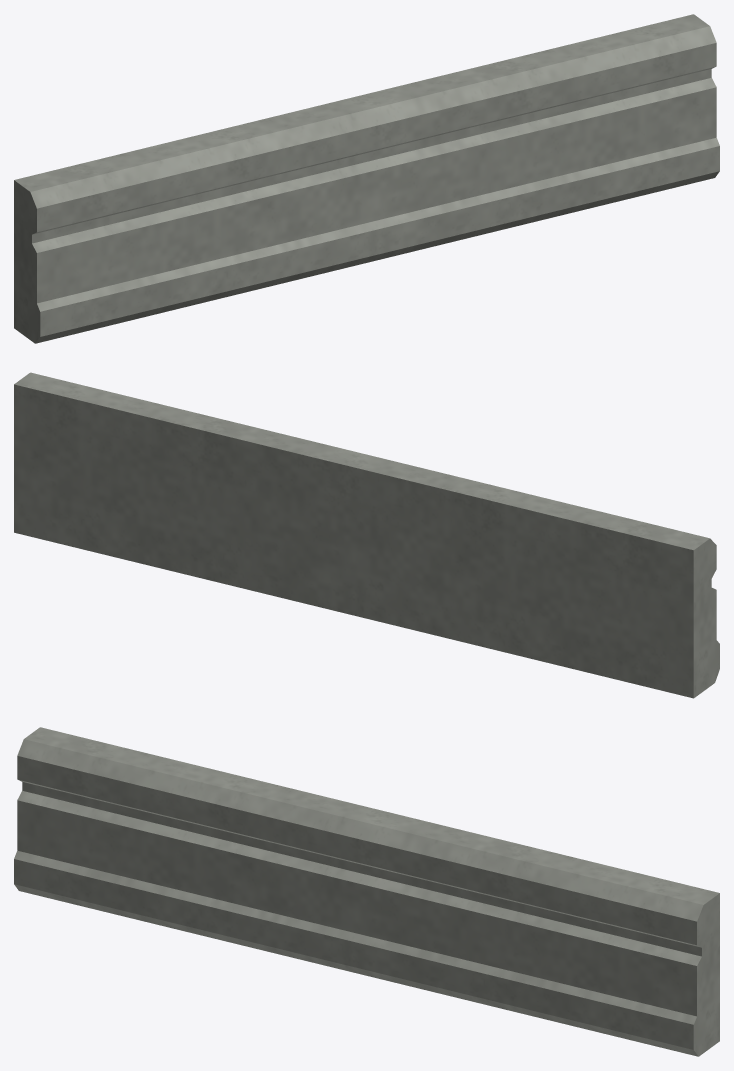
The model's file is concrete-shadow-plinth.lod0.glb.
3 renders of one model, top to bottom at view 1: azimuth 30°, elevation 25°; view 2: azimuth 150°, elevation 25°; view 3: azimuth 330°, elevation 25°, orthographic.
Visible parts, largest first — view 1: concrete-shadow-plinth; view 2: concrete-shadow-plinth; view 3: concrete-shadow-plinth.
Part boxes in pixels (x1=…): concrete-shadow-plinth: x1=14, y1=14, x2=719, y2=343; concrete-shadow-plinth: x1=14, y1=372, x2=719, y2=698; concrete-shadow-plinth: x1=14, y1=727, x2=719, y2=1056.
Size of the model in its own units: 2.4 by 0.5 by 0.16.
Materials: 1 (1 with a texture image).
